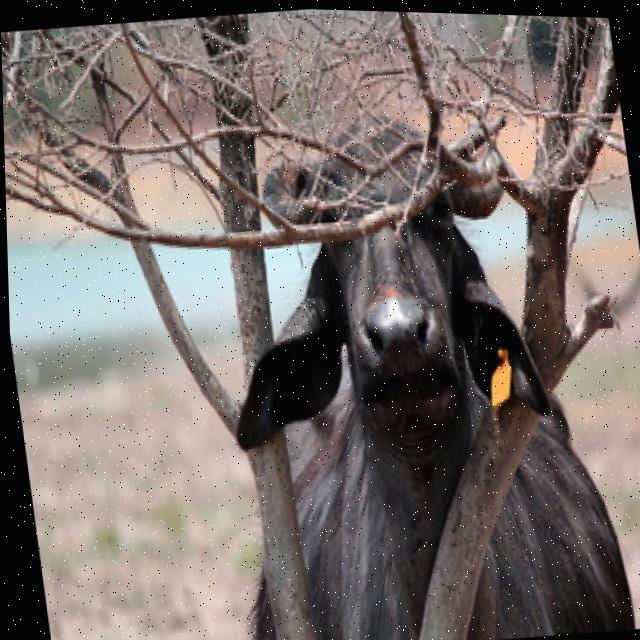Buffalo: (182, 93, 640, 640)
